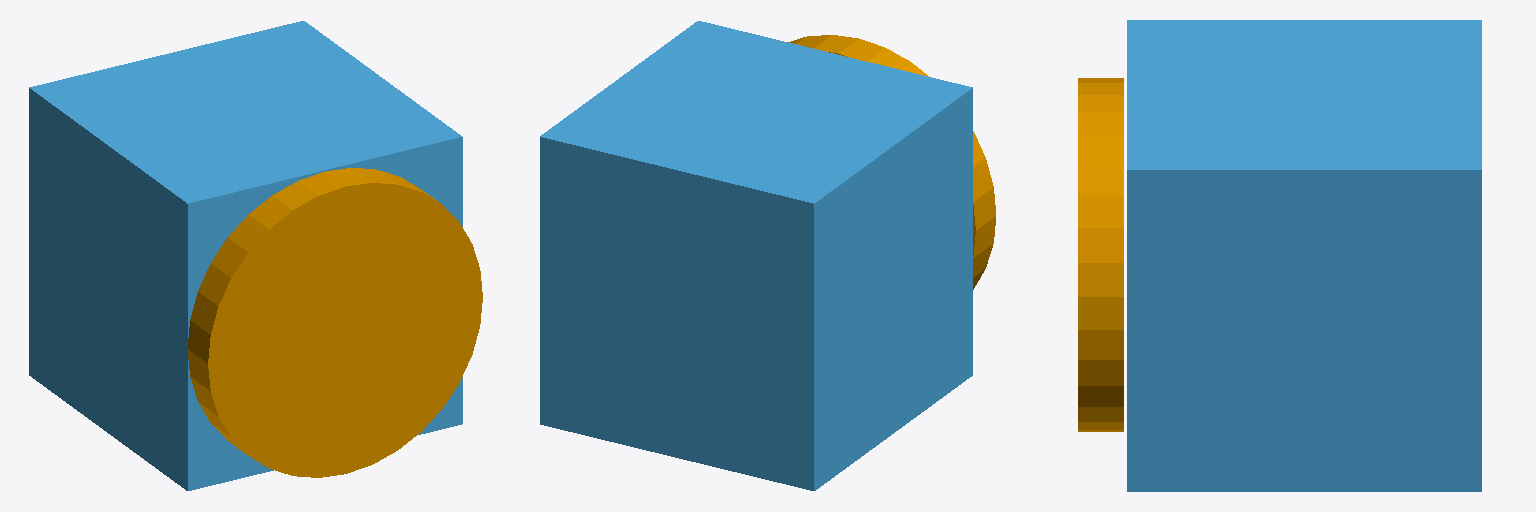
robot.urdf — simple_model:
<?xml version="1.0" ?>
<robot name="simple_model">
  <joint name="simple_model__link_1_JOINT_0" type="continuous">
    <parent link="simple_model__link_1"/>
    <child link="simple_model__link_0"/>
    <origin rpy="-1.5708  0      0" xyz="-0.00269 -0.28628  0"/>
    <axis xyz="0  0  1"/>
    <limit effort="-1.0" lower="-1.79769e+308" upper="1.79769e+308" velocity="-1.0"/>
  </joint>
  <link name="simple_model__link_0">
    <inertial>
      <mass value="0.129655"/>
      <origin rpy="0  0  0" xyz="0  0  0"/>
      <inertia ixx="0.00828505" ixy="0" ixz="0" iyy="0.00828505" iyz="0" izz="0.0162068"/>
    </inertial>
    <collision name="simple_model__collision">
      <origin rpy="0  0  0" xyz="0  0  0"/>
      <geometry>
        <cylinder length="0.129655" radius="0.5"/>
      </geometry>
    </collision>
    <visual name="simple_model__visual">
      <origin rpy="0  0  0" xyz="0  0  0"/>
      <geometry>
        <cylinder length="0.129655" radius="0.5"/>
      </geometry>
    </visual>
  </link>
  <link name="simple_model__link_1">
    <inertial>
      <mass value="1"/>
      <origin rpy="0  0  0" xyz="0  0  0"/>
      <inertia ixx="0.166667" ixy="0" ixz="0" iyy="0.166667" iyz="0" izz="0.166667"/>
    </inertial>
    <collision name="simple_model__collision">
      <origin rpy="0  0  0" xyz="0.00269  0.28628  0"/>
      <geometry>
        <box size="1 1 1"/>
      </geometry>
    </collision>
    <visual name="simple_model__visual">
      <origin rpy="0  0  0" xyz="0.00269  0.28628  0"/>
      <geometry>
        <box size="1 1 1"/>
      </geometry>
    </visual>
  </link>
</robot>

--- Render facts (derived) ---
Views: 3 orthographic renders of the robot side by side, from view 1: azimuth 30°, elevation 25°; view 2: azimuth 150°, elevation 25°; view 3: azimuth 270°, elevation 25°.
Model simple_model with 2 links and 1 joints (1 continuous), rooted at simple_model__link_1, posed every joint at zero.
Links seen in each view (by area): view 1: simple_model__link_1, simple_model__link_0; view 2: simple_model__link_1, simple_model__link_0; view 3: simple_model__link_1, simple_model__link_0.
Boxes of the visible links, <box> form: simple_model__link_1: <box>29,21,462,490</box>; simple_model__link_0: <box>188,168,482,477</box>; simple_model__link_1: <box>540,21,972,490</box>; simple_model__link_0: <box>788,35,995,289</box>; simple_model__link_1: <box>1127,20,1481,491</box>; simple_model__link_0: <box>1078,78,1123,431</box>.
Size in the robot's own frame: 1.01 by 1.14 by 1 metres.
Geometry: primitives only (box / cylinder / sphere), no mesh files.